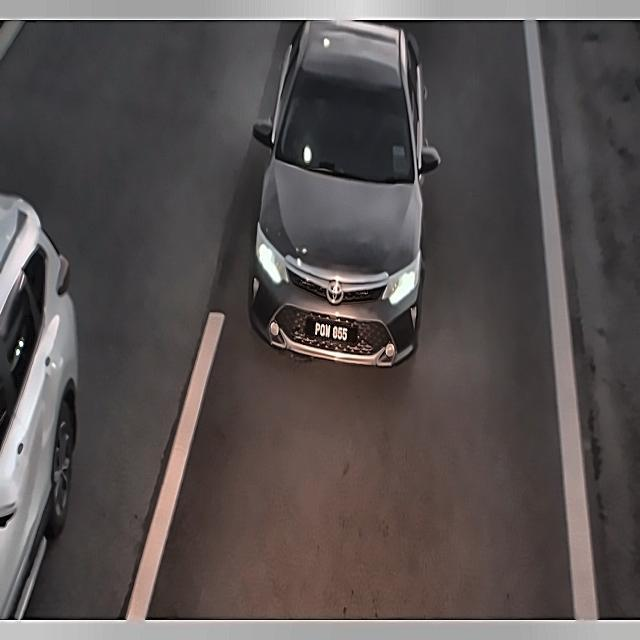car: (306, 313, 359, 351)
